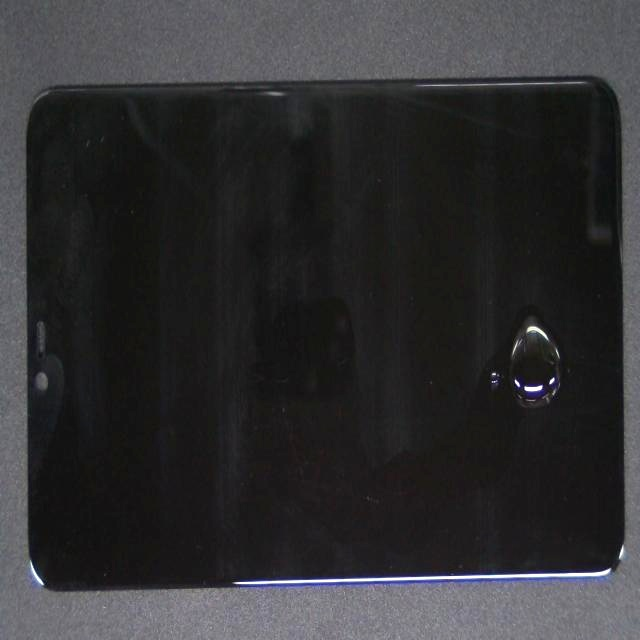oil: (296, 183, 640, 497)
